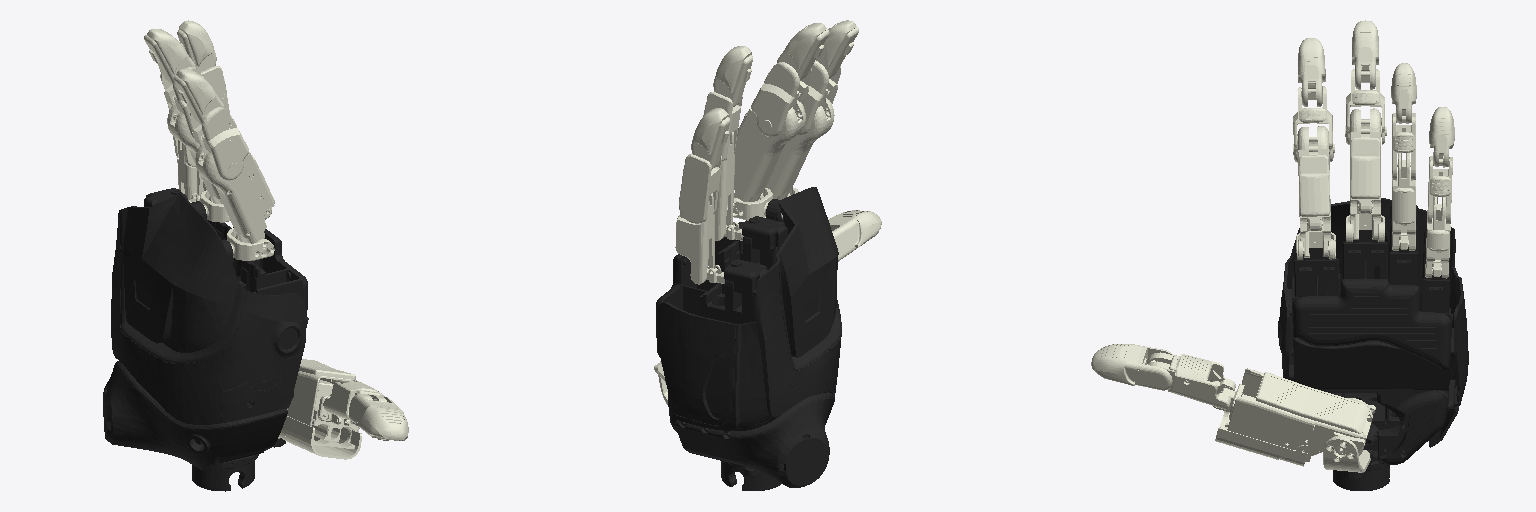
URDF robot description (liberhand_left):
<?xml version="1.0" ?>
<!-- =================================================================================== -->
<!-- |    This document was autogenerated by xacro from src/libertech_humanoid/libertech_humanoid_description/urdf/hand.xacro | -->
<!-- |    EDITING THIS FILE BY HAND IS NOT RECOMMENDED                                 | -->
<!-- =================================================================================== -->
<robot name="liberhand_left">
  <link name="world"/>
  <joint name="world_to_hand_left_palm_fixed" type="fixed">
    <origin rpy="0.0 0.0 0.0" xyz="0.0 0.0 0.0"/>
    <parent link="world"/>
    <child link="hand_left_palm"/>
  </joint>
  <link name="hand_left_palm">
    <inertial>
      <origin rpy="0 0 0" xyz="0 0 0"/>
      <mass value="0.91778"/>
      <inertia ixx="0.0018592" ixy="6.239E-05" ixz="-6.688E-05" iyy="0.0015814" iyz="3.163E-05" izz="0.00064901"/>
    </inertial>
    <visual>
      <origin rpy="0 0 0" xyz="0 0 0"/>
      <geometry>
        <mesh filename="../meshes/visual/palm.STL" scale="1 -1 1"/>
      </geometry>
      <material name="hand_gray">
        <color rgba="0.2 0.2 0.2 1"/>
      </material>
    </visual>
    <collision>
      <origin rpy="0 0 0" xyz="0 0 0"/>
      <geometry>
        <mesh filename="../meshes/visual/palm.STL" scale="1 -1 1"/>
      </geometry>
    </collision>
  </link>
  <link name="hand_left_f11">
    <inertial>
      <origin rpy="0 0 0" xyz="0 0.00069742 -0.0093798"/>
      <mass value="0.0033015"/>
      <inertia ixx="2E-07" ixy="0" ixz="0" iyy="3.1E-07" iyz="1E-08" izz="1.4E-07"/>
    </inertial>
    <visual>
      <origin rpy="0 0 0" xyz="0 0 0"/>
      <geometry>
        <mesh filename="../meshes/visual/f11.STL"/>
      </geometry>
      <material name="hand_white">
        <color rgba="0.913725 0.913725 0.847059 1"/>
      </material>
    </visual>
    <collision>
      <origin rpy="0 0 0" xyz="0 0 0"/>
      <geometry>
        <mesh filename="../meshes/visual/f11.STL"/>
      </geometry>
    </collision>
  </link>
  <joint name="hand_left_f11_joint" type="revolute">
    <origin rpy="1.5708 -0.02618 1.5708" xyz="-0.022466 -0.027654 0.043657"/>
    <parent link="hand_left_palm"/>
    <child link="hand_left_f11"/>
    <axis xyz="0 0 1"/>
    <limit effort="10" lower="-0.4" upper="0.4" velocity="3.14"/>
    <dynamics damping="1.0" friction="0.01"/>
  </joint>
  <link name="hand_left_f12">
    <inertial>
      <origin rpy="0 0 0" xyz="0.026032 -0.0074611 2.268E-05"/>
      <mass value="0.058465"/>
      <inertia ixx="4.34E-06" ixy="-4.9E-06" ixz="5.3E-07" iyy="1.396E-05" iyz="-2.1E-07" izz="1.633E-05"/>
    </inertial>
    <visual>
      <origin rpy="0 0 0" xyz="0 0 0"/>
      <geometry>
        <mesh filename="../meshes/visual/f12.STL"/>
      </geometry>
      <material name="hand_white">
        <color rgba="0.913725 0.913725 0.847059 1"/>
      </material>
    </visual>
    <collision>
      <origin rpy="0 0 0" xyz="0 0 0"/>
      <geometry>
        <mesh filename="../meshes/visual/f12.STL"/>
      </geometry>
    </collision>
  </link>
  <joint name="hand_left_f12_joint" type="revolute">
    <origin rpy="1.5708 0 1.5708" xyz="0 0 0"/>
    <parent link="hand_left_f11"/>
    <child link="hand_left_f12"/>
    <axis xyz="0 0 1"/>
    <limit effort="10" lower="0" upper="2.09" velocity="3.14"/>
    <dynamics damping="1.0" friction="0.01"/>
  </joint>
  <link name="hand_left_f13">
    <inertial>
      <origin rpy="0 0 0" xyz="0.0090975 -0.0015069 0.0013415"/>
      <mass value="0.014574"/>
      <inertia ixx="9.3E-07" ixy="-3.2E-07" ixz="-1.8E-07" iyy="2.04E-06" iyz="6E-08" izz="1.81E-06"/>
    </inertial>
    <visual>
      <origin rpy="0 0 0" xyz="0 0 0"/>
      <geometry>
        <mesh filename="../meshes/visual/f13.STL"/>
      </geometry>
      <material name="hand_white">
        <color rgba="0.913725 0.913725 0.847059 1"/>
      </material>
    </visual>
    <collision>
      <origin rpy="0 0 0" xyz="0 0 0"/>
      <geometry>
        <mesh filename="../meshes/visual/f13.STL"/>
      </geometry>
    </collision>
  </link>
  <joint name="hand_left_f13_joint" type="revolute">
    <origin rpy="0 0 0" xyz="0.048883 -0.018383 0"/>
    <parent link="hand_left_f12"/>
    <child link="hand_left_f13"/>
    <axis xyz="0 0 1"/>
    <limit effort="10" lower="0" upper="1.744" velocity="3.14"/>
    <dynamics damping="1.0" friction="0.01"/>
  </joint>
  <link name="hand_left_f14">
    <inertial>
      <origin rpy="0 0 0" xyz="0.007749 -0.0041898 -0.00072552"/>
      <mass value="0.0055228"/>
      <inertia ixx="2.3E-07" ixy="-1.5E-07" ixz="2E-08" iyy="4E-07" iyz="-1E-08" izz="5E-07"/>
    </inertial>
    <visual>
      <origin rpy="0 0 0" xyz="0 0 0"/>
      <geometry>
        <mesh filename="../meshes/visual/f14.STL"/>
      </geometry>
      <material name="hand_white">
        <color rgba="0.913725 0.913725 0.847059 1"/>
      </material>
    </visual>
    <collision>
      <origin rpy="0 0 0" xyz="0 0 0"/>
      <geometry>
        <mesh filename="../meshes/visual/f14.STL"/>
      </geometry>
    </collision>
  </link>
  <joint name="hand_left_f14_joint" type="revolute">
    <origin rpy="0 0 0" xyz="0.0284 -0.0092477 0"/>
    <parent link="hand_left_f13"/>
    <child link="hand_left_f14"/>
    <axis xyz="0 0 1"/>
    <limit effort="10" lower="0" upper="1.744" velocity="3.14"/>
    <dynamics damping="1.0" friction="0.01"/>
  </joint>
  <link name="hand_left_f14_end">
        </link>
  <joint name="hand_left_f14_end_joint" type="fixed">
    <origin rpy="0 0 0" xyz="0.019695 -0.0034802 0"/>
    <parent link="hand_left_f14"/>
    <child link="hand_left_f14_end"/>
    <axis xyz="0 0 0"/>
  </joint>
  <link name="hand_left_f21">
    <inertial>
      <origin rpy="0 0 0" xyz="0 0.00069742 -0.0093798"/>
      <mass value="0.0033015"/>
      <inertia ixx="2E-07" ixy="0" ixz="0" iyy="3.1E-07" iyz="1E-08" izz="1.4E-07"/>
    </inertial>
    <visual>
      <origin rpy="0 0 0" xyz="0 0 0"/>
      <geometry>
        <mesh filename="../meshes/visual/f21.STL"/>
      </geometry>
      <material name="hand_white">
        <color rgba="0.913725 0.913725 0.847059 1"/>
      </material>
    </visual>
    <collision>
      <origin rpy="0 0 0" xyz="0 0 0"/>
      <geometry>
        <mesh filename="../meshes/visual/f21.STL"/>
      </geometry>
    </collision>
  </link>
  <joint name="hand_left_f21_joint" type="revolute">
    <origin rpy="1.5708 0 1.5708" xyz="-0.022466 -0.0022583 0.053546"/>
    <parent link="hand_left_palm"/>
    <child link="hand_left_f21"/>
    <axis xyz="0 0 1"/>
    <limit effort="10" lower="-0.4" upper="0.4" velocity="3.14"/>
    <dynamics damping="1.0" friction="0.01"/>
  </joint>
  <link name="hand_left_f22">
    <inertial>
      <origin rpy="0 0 0" xyz="0.026032 -0.0074611 2.268E-05"/>
      <mass value="0.058465"/>
      <inertia ixx="4.34E-06" ixy="-4.9E-06" ixz="5.3E-07" iyy="1.396E-05" iyz="-2.1E-07" izz="1.633E-05"/>
    </inertial>
    <visual>
      <origin rpy="0 0 0" xyz="0 0 0"/>
      <geometry>
        <mesh filename="../meshes/visual/f22.STL"/>
      </geometry>
      <material name="hand_white">
        <color rgba="0.913725 0.913725 0.847059 1"/>
      </material>
    </visual>
    <collision>
      <origin rpy="0 0 0" xyz="0 0 0"/>
      <geometry>
        <mesh filename="../meshes/visual/f22.STL"/>
      </geometry>
    </collision>
  </link>
  <joint name="hand_left_f22_joint" type="revolute">
    <origin rpy="1.5708 0 1.5708" xyz="0 0 0"/>
    <parent link="hand_left_f21"/>
    <child link="hand_left_f22"/>
    <axis xyz="0 0 1"/>
    <limit effort="10" lower="0" upper="2.09" velocity="3.14"/>
    <dynamics damping="1.0" friction="0.01"/>
  </joint>
  <link name="hand_left_f23">
    <inertial>
      <origin rpy="0 0 0" xyz="0.0090975 -0.0015069 0.0013415"/>
      <mass value="0.014574"/>
      <inertia ixx="9.3E-07" ixy="-3.2E-07" ixz="-1.8E-07" iyy="2.04E-06" iyz="6E-08" izz="1.81E-06"/>
    </inertial>
    <visual>
      <origin rpy="0 0 0" xyz="0 0 0"/>
      <geometry>
        <mesh filename="../meshes/visual/f23.STL"/>
      </geometry>
      <material name="hand_white">
        <color rgba="0.913725 0.913725 0.847059 1"/>
      </material>
    </visual>
    <collision>
      <origin rpy="0 0 0" xyz="0 0 0"/>
      <geometry>
        <mesh filename="../meshes/visual/f23.STL"/>
      </geometry>
    </collision>
  </link>
  <joint name="hand_left_f23_joint" type="revolute">
    <origin rpy="0 0 0" xyz="0.048883 -0.018383 0"/>
    <parent link="hand_left_f22"/>
    <child link="hand_left_f23"/>
    <axis xyz="0 0 1"/>
    <limit effort="10" lower="0" upper="1.744" velocity="3.14"/>
    <dynamics damping="1.0" friction="0.01"/>
  </joint>
  <link name="hand_left_f24">
    <inertial>
      <origin rpy="0 0 0" xyz="0.007749 -0.0041898 -0.00072552"/>
      <mass value="0.0055228"/>
      <inertia ixx="2.3E-07" ixy="-1.5E-07" ixz="2E-08" iyy="4E-07" iyz="-1E-08" izz="5E-07"/>
    </inertial>
    <visual>
      <origin rpy="0 0 0" xyz="0 0 0"/>
      <geometry>
        <mesh filename="../meshes/visual/f24.STL"/>
      </geometry>
      <material name="hand_white">
        <color rgba="0.913725 0.913725 0.847059 1"/>
      </material>
    </visual>
    <collision>
      <origin rpy="0 0 0" xyz="0 0 0"/>
      <geometry>
        <mesh filename="../meshes/visual/f24.STL"/>
      </geometry>
    </collision>
  </link>
  <joint name="hand_left_f24_joint" type="revolute">
    <origin rpy="0 0 0" xyz="0.0284 -0.0092477 0"/>
    <parent link="hand_left_f23"/>
    <child link="hand_left_f24"/>
    <axis xyz="0 0 1"/>
    <limit effort="10" lower="0" upper="1.744" velocity="3.14"/>
    <dynamics damping="1.0" friction="0.01"/>
  </joint>
  <link name="hand_left_f24_end">
        </link>
  <joint name="hand_left_f24_end_joint" type="fixed">
    <origin rpy="0 0 0" xyz="0.019695 -0.0034802 0"/>
    <parent link="hand_left_f24"/>
    <child link="hand_left_f24_end"/>
    <axis xyz="0 0 0"/>
  </joint>
  <link name="hand_left_f31">
    <inertial>
      <origin rpy="0 0 0" xyz="-6.964E-05 -0.00044078 -0.012759"/>
      <mass value="0.0085521"/>
      <inertia ixx="7.6E-07" ixy="0" ixz="0" iyy="7.6E-07" iyz="4E-08" izz="1.3E-07"/>
    </inertial>
    <visual>
      <origin rpy="0 0 0" xyz="0 0 0"/>
      <geometry>
        <mesh filename="../meshes/visual/f31.STL"/>
      </geometry>
      <material name="hand_white">
        <color rgba="0.913725 0.913725 0.847059 1"/>
      </material>
    </visual>
    <collision>
      <origin rpy="0 0 0" xyz="0 0 0"/>
      <geometry>
        <mesh filename="../meshes/visual/f31.STL"/>
      </geometry>
    </collision>
  </link>
  <joint name="hand_left_f31_joint" type="revolute">
    <origin rpy="1.5708 0 1.5708" xyz="-0.021466 0.017542 0.047798"/>
    <parent link="hand_left_palm"/>
    <child link="hand_left_f31"/>
    <axis xyz="0 0 1"/>
    <limit effort="10" lower="-0.4" upper="0.4" velocity="3.14"/>
    <dynamics damping="1.0" friction="0.01"/>
  </joint>
  <link name="hand_left_f32">
    <inertial>
      <origin rpy="0 0 0" xyz="0.025132 0.0031733 -8.727E-05"/>
      <mass value="0.01244"/>
      <inertia ixx="4.5E-07" ixy="-1.2E-07" ixz="0" iyy="2.29E-06" iyz="0" izz="2.41E-06"/>
    </inertial>
    <visual>
      <origin rpy="0 0 0" xyz="0 0 0"/>
      <geometry>
        <mesh filename="../meshes/visual/f32.STL"/>
      </geometry>
      <material name="hand_white">
        <color rgba="0.913725 0.913725 0.847059 1"/>
      </material>
    </visual>
    <collision>
      <origin rpy="0 0 0" xyz="0 0 0"/>
      <geometry>
        <mesh filename="../meshes/visual/f32.STL"/>
      </geometry>
    </collision>
  </link>
  <joint name="hand_left_f32_joint" type="revolute">
    <origin rpy="1.5708 0 1.5708" xyz="0 0 0"/>
    <parent link="hand_left_f31"/>
    <child link="hand_left_f32"/>
    <axis xyz="0 0 1"/>
    <limit effort="10" lower="0" upper="1.744" velocity="3.14"/>
    <dynamics damping="1.0" friction="0.01"/>
  </joint>
  <link name="hand_left_f33">
    <inertial>
      <origin rpy="0 0 0" xyz="0.010032 -0.00058707 -9.093E-05"/>
      <mass value="0.0071009"/>
      <inertia ixx="2.8E-07" ixy="-8E-08" ixz="0" iyy="6.9E-07" iyz="0" izz="7E-07"/>
    </inertial>
    <visual>
      <origin rpy="0 0 0" xyz="0 0 0"/>
      <geometry>
        <mesh filename="../meshes/visual/f33.STL"/>
      </geometry>
      <material name="hand_white">
        <color rgba="0.913725 0.913725 0.847059 1"/>
      </material>
    </visual>
    <collision>
      <origin rpy="0 0 0" xyz="0 0 0"/>
      <geometry>
        <mesh filename="../meshes/visual/f33.STL"/>
      </geometry>
    </collision>
  </link>
  <joint name="hand_left_f33_joint" type="revolute">
    <origin rpy="0 0 0" xyz="0.044995 0.00066781 0"/>
    <parent link="hand_left_f32"/>
    <child link="hand_left_f33"/>
    <axis xyz="0 0 1"/>
    <limit effort="10" lower="0" upper="1.744" velocity="3.14"/>
    <dynamics damping="1.0" friction="0.01"/>
  </joint>
  <link name="hand_left_f34">
    <inertial>
      <origin rpy="0 0 0" xyz="0.010482 -0.0030354 -1.03E-05"/>
      <mass value="0.0049513"/>
      <inertia ixx="1.3E-07" ixy="-6E-08" ixz="0" iyy="3.2E-07" iyz="0" izz="3.7E-07"/>
    </inertial>
    <visual>
      <origin rpy="0 0 0" xyz="0 0 0"/>
      <geometry>
        <mesh filename="../meshes/visual/f34.STL"/>
      </geometry>
      <material name="hand_white">
        <color rgba="0.913725 0.913725 0.847059 1"/>
      </material>
    </visual>
    <collision>
      <origin rpy="0 0 0" xyz="0 0 0"/>
      <geometry>
        <mesh filename="../meshes/visual/f34.STL"/>
      </geometry>
    </collision>
  </link>
  <joint name="hand_left_f34_joint" type="revolute">
    <origin rpy="0 0 0" xyz="0.024601 -0.0044465 0"/>
    <parent link="hand_left_f33"/>
    <child link="hand_left_f34"/>
    <axis xyz="0 0 1"/>
    <limit effort="10" lower="0" upper="1.744" velocity="3.14"/>
    <dynamics damping="1.0" friction="0.01"/>
  </joint>
  <link name="hand_left_f34_end">
        </link>
  <joint name="hand_left_f34_end_joint" type="fixed">
    <origin rpy="0 0 0" xyz="0.021134 0.0011803 0"/>
    <parent link="hand_left_f34"/>
    <child link="hand_left_f34_end"/>
    <axis xyz="0 0 0"/>
  </joint>
  <link name="hand_left_f41">
    <inertial>
      <origin rpy="0 0 0" xyz="-6.964E-05 -0.00044078 -0.012759"/>
      <mass value="0.0085521"/>
      <inertia ixx="7.6E-07" ixy="0" ixz="0" iyy="7.6E-07" iyz="4E-08" izz="1.3E-07"/>
    </inertial>
    <visual>
      <origin rpy="0 0 0" xyz="0 0 0"/>
      <geometry>
        <mesh filename="../meshes/visual/f41.STL"/>
      </geometry>
      <material name="hand_white">
        <color rgba="0.913725 0.913725 0.847059 1"/>
      </material>
    </visual>
    <collision>
      <origin rpy="0 0 0" xyz="0 0 0"/>
      <geometry>
        <mesh filename="../meshes/visual/f41.STL"/>
      </geometry>
    </collision>
  </link>
  <joint name="hand_left_f41_joint" type="revolute">
    <origin rpy="1.5708 0.034907 1.5708" xyz="-0.021466 0.034458 0.032384"/>
    <parent link="hand_left_palm"/>
    <child link="hand_left_f41"/>
    <axis xyz="0 0 1"/>
    <limit effort="10" lower="-0.4" upper="0.4" velocity="3.14"/>
    <dynamics damping="1.0" friction="0.01"/>
  </joint>
  <link name="hand_left_f42">
    <inertial>
      <origin rpy="0 0 0" xyz="0.021044 0.0035949 -7.944E-05"/>
      <mass value="0.0096409"/>
      <inertia ixx="3.5E-07" ixy="-3E-08" ixz="0" iyy="1.24E-06" iyz="0" izz="1.35E-06"/>
    </inertial>
    <visual>
      <origin rpy="0 0 0" xyz="0 0 0"/>
      <geometry>
        <mesh filename="../meshes/visual/f42.STL"/>
      </geometry>
      <material name="hand_white">
        <color rgba="0.913725 0.913725 0.847059 1"/>
      </material>
    </visual>
    <collision>
      <origin rpy="0 0 0" xyz="0 0 0"/>
      <geometry>
        <mesh filename="../meshes/visual/f42.STL"/>
      </geometry>
    </collision>
  </link>
  <joint name="hand_left_f42_joint" type="revolute">
    <origin rpy="1.5708 0 1.5708" xyz="0 0 0"/>
    <parent link="hand_left_f41"/>
    <child link="hand_left_f42"/>
    <axis xyz="0 0 1"/>
    <limit effort="10" lower="0" upper="1.6" velocity="3.14"/>
    <dynamics damping="1.0" friction="0.01"/>
  </joint>
  <link name="hand_left_f43">
    <inertial>
      <origin rpy="0 0 0" xyz="0.010032 -0.00058707 -9.093E-05"/>
      <mass value="0.0071009"/>
      <inertia ixx="2.8E-07" ixy="-8E-08" ixz="0" iyy="6.9E-07" iyz="0" izz="7E-07"/>
    </inertial>
    <visual>
      <origin rpy="0 0 0" xyz="0 0 0"/>
      <geometry>
        <mesh filename="../meshes/visual/f43.STL"/>
      </geometry>
      <material name="hand_white">
        <color rgba="0.913725 0.913725 0.847059 1"/>
      </material>
    </visual>
    <collision>
      <origin rpy="0 0 0" xyz="0 0 0"/>
      <geometry>
        <mesh filename="../meshes/visual/f43.STL"/>
      </geometry>
    </collision>
  </link>
  <joint name="hand_left_f43_joint" type="revolute">
    <origin rpy="0 0 0" xyz="0.035975 0.001338 0"/>
    <parent link="hand_left_f42"/>
    <child link="hand_left_f43"/>
    <axis xyz="0 0 1"/>
    <limit effort="10" lower="0" upper="1.744" velocity="3.14"/>
    <dynamics damping="1.0" friction="0.01"/>
  </joint>
  <link name="hand_left_f44">
    <inertial>
      <origin rpy="0 0 0" xyz="0.010482 -0.0030354 -1.03E-05"/>
      <mass value="0.0049513"/>
      <inertia ixx="1.3E-07" ixy="-6E-08" ixz="0" iyy="3.2E-07" iyz="0" izz="3.7E-07"/>
    </inertial>
    <visual>
      <origin rpy="0 0 0" xyz="0 0 0"/>
      <geometry>
        <mesh filename="../meshes/visual/f44.STL"/>
      </geometry>
      <material name="hand_white">
        <color rgba="0.913725 0.913725 0.847059 1"/>
      </material>
    </visual>
    <collision>
      <origin rpy="0 0 0" xyz="0 0 0"/>
      <geometry>
        <mesh filename="../meshes/visual/f44.STL"/>
      </geometry>
    </collision>
  </link>
  <joint name="hand_left_f44_joint" type="revolute">
    <origin rpy="0 0 0" xyz="0.024621 -0.004339 0"/>
    <parent link="hand_left_f43"/>
    <child link="hand_left_f44"/>
    <axis xyz="0 0 1"/>
    <limit effort="10" lower="0" upper="1.744" velocity="3.14"/>
    <dynamics damping="1.0" friction="0.01"/>
  </joint>
  <link name="hand_left_f44_end">
        </link>
  <joint name="hand_left_f44_end_joint" type="fixed">
    <origin rpy="0 0 0" xyz="0.021123 0.0013734 0"/>
    <parent link="hand_left_f44"/>
    <child link="hand_left_f44_end"/>
    <axis xyz="0 0 0"/>
  </joint>
  <link name="hand_left_f51">
    <inertial>
      <origin rpy="0 0 0" xyz="0.0053991 0.0016936 0.01157"/>
      <mass value="0.022542"/>
      <inertia ixx="3.06E-06" ixy="4.2E-07" ixz="3.3E-07" iyy="5.17E-06" iyz="1E-08" izz="3.39E-06"/>
    </inertial>
    <visual>
      <origin rpy="0 0 0" xyz="0 0 0"/>
      <geometry>
        <mesh filename="../meshes/visual/f51.STL" scale="-1 1 1"/>
      </geometry>
      <material name="hand_white">
        <color rgba="0.913725 0.913725 0.847059 1"/>
      </material>
    </visual>
    <collision>
      <origin rpy="0 0 0" xyz="0 0 0"/>
      <geometry>
        <mesh filename="../meshes/visual/f51.STL" scale="-1 1 1"/>
      </geometry>
    </collision>
  </link>
  <joint name="hand_left_f51_joint" type="revolute">
    <origin rpy="0 0 3.14" xyz="-0.00049657 -0.0084524 -0.066754"/>
    <parent link="hand_left_palm"/>
    <child link="hand_left_f51"/>
    <axis xyz="0 0 1"/>
    <limit effort="10" lower="0" upper="1.9" velocity="3.14"/>
    <dynamics damping="1.0" friction="0.01"/>
  </joint>
  <link name="hand_left_f52">
    <inertial>
      <origin rpy="0 0 0" xyz="0.03317 -0.0064258 -0.00083733"/>
      <mass value="0.12909"/>
      <inertia ixx="1.628E-05" ixy="-6.22E-06" ixz="-3.01E-06" iyy="6.413E-05" iyz="1.13E-06" izz="6.867E-05"/>
    </inertial>
    <visual>
      <origin rpy="0 0 0" xyz="0 0 0"/>
      <geometry>
        <mesh filename="../meshes/visual/f52.STL" scale="1 1 -1"/>
      </geometry>
      <material name="hand_white">
        <color rgba="0.913725 0.913725 0.847059 1"/>
      </material>
    </visual>
    <collision>
      <origin rpy="0 0 0" xyz="0 0 0"/>
      <geometry>
        <mesh filename="../meshes/visual/f52.STL" scale="1 1 -1"/>
      </geometry>
    </collision>
  </link>
  <joint name="hand_left_f52_joint" type="revolute">
    <origin rpy="1.2969 -0.25085 1.4244" xyz="-0.0092399 0.0031582 0.022073"/>
    <parent link="hand_left_f51"/>
    <child link="hand_left_f52"/>
    <axis xyz="0 0 1"/>
    <limit effort="10" lower="0" upper="1.332" velocity="3.14"/>
    <dynamics damping="1.0" friction="0.01"/>
  </joint>
  <link name="hand_left_f53">
    <inertial>
      <origin rpy="0 0 0" xyz="0.021453 0.0041043 -5.93E-06"/>
      <mass value="0.011849"/>
      <inertia ixx="6.6E-07" ixy="-1E-08" ixz="-1E-08" iyy="1.94E-06" iyz="0" izz="1.88E-06"/>
    </inertial>
    <visual>
      <origin rpy="0 0 0" xyz="0 0 0"/>
      <geometry>
        <mesh filename="../meshes/visual/f53.STL"/>
      </geometry>
      <material name="hand_white">
        <color rgba="0.913725 0.913725 0.847059 1"/>
      </material>
    </visual>
    <collision>
      <origin rpy="0 0 0" xyz="0 0 0"/>
      <geometry>
        <mesh filename="../meshes/visual/f53.STL"/>
      </geometry>
    </collision>
  </link>
  <joint name="hand_left_f53_joint" type="revolute">
    <origin rpy="0 0 0" xyz="0.0654 0 0"/>
    <parent link="hand_left_f52"/>
    <child link="hand_left_f53"/>
    <axis xyz="0 0 1"/>
    <limit effort="10" lower="0" upper="1.744" velocity="3.14"/>
    <dynamics damping="1.0" friction="0.01"/>
  </joint>
  <link name="hand_left_f54">
    <inertial>
      <origin rpy="0 0 0" xyz="0.013824 -0.0017677 -5.567E-05"/>
      <mass value="0.010348"/>
      <inertia ixx="5.5E-07" ixy="-1.5E-07" ixz="0" iyy="1.35E-06" iyz="0" izz="1.17E-06"/>
    </inertial>
    <visual>
      <origin rpy="0 0 0" xyz="0 0 0"/>
      <geometry>
        <mesh filename="../meshes/visual/f54.STL"/>
      </geometry>
      <material name="hand_white">
        <color rgba="0.913725 0.913725 0.847059 1"/>
      </material>
    </visual>
    <collision>
      <origin rpy="0 0 0" xyz="0 0 0"/>
      <geometry>
        <mesh filename="../meshes/visual/f54.STL"/>
      </geometry>
    </collision>
  </link>
  <joint name="hand_left_f54_joint" type="revolute">
    <origin rpy="0 0 0" xyz="0.035837 0.0034221 0"/>
    <parent link="hand_left_f53"/>
    <child link="hand_left_f54"/>
    <axis xyz="0 0 1"/>
    <limit effort="10" lower="0" upper="1.744" velocity="3.14"/>
    <dynamics damping="1.0" friction="0.01"/>
  </joint>
  <link name="hand_left_f54_end">
        </link>
  <joint name="hand_left_f54_end_joint" type="fixed">
    <origin rpy="0 0 0" xyz="0.024 0.0044004 0"/>
    <parent link="hand_left_f54"/>
    <child link="hand_left_f54_end"/>
    <axis xyz="0 0 0"/>
  </joint>
  <link name="hand_left_wrist">
        </link>
  <joint name="hand_left_wrist_joint" type="fixed">
    <origin rpy="1.570796326 0.0 1.570796326" xyz="-0.025962 -0.005739 -0.069754"/>
    <parent link="hand_left_palm"/>
    <child link="hand_left_wrist"/>
  </joint>
</robot>

--- What the picture shows (computed from the rendered views, not written in the file) ---
Views: 3 orthographic renders of the robot side by side, from view 1: azimuth 30°, elevation 25°; view 2: azimuth 150°, elevation 25°; view 3: azimuth 270°, elevation 25°.
Robot: liberhand_left — 28 links, 27 joints (20 revolute, 7 fixed); root link world; default pose: all joints at 0.
Links seen in each view (by area): view 1: hand_left_palm, hand_left_f52, hand_left_f12, hand_left_f13, hand_left_f54, hand_left_f14, hand_left_f24, hand_left_f34, hand_left_f53, hand_left_f22, hand_left_f11, hand_left_f42 (+2 smaller); view 2: hand_left_palm, hand_left_f22, hand_left_f23, hand_left_f12, hand_left_f43, hand_left_f42, hand_left_f54, hand_left_f34, hand_left_f24, hand_left_f44, hand_left_f32, hand_left_f14 (+3 smaller); view 3: hand_left_palm, hand_left_f52, hand_left_f12, hand_left_f22, hand_left_f53, hand_left_f54, hand_left_f32, hand_left_f14, hand_left_f24, hand_left_f51, hand_left_f42, hand_left_f13 (+6 smaller).
Boxes of the visible links, bbox=[...] form: hand_left_palm: bbox=[103, 188, 308, 491]; hand_left_f52: bbox=[279, 359, 363, 459]; hand_left_f12: bbox=[195, 144, 274, 254]; hand_left_f13: bbox=[190, 107, 248, 180]; hand_left_f54: bbox=[349, 394, 408, 440]; hand_left_f14: bbox=[173, 69, 224, 124]; hand_left_f24: bbox=[144, 29, 195, 84]; hand_left_f34: bbox=[177, 20, 216, 71]; hand_left_f53: bbox=[323, 382, 386, 420]; hand_left_f22: bbox=[167, 104, 222, 203]; hand_left_f11: bbox=[227, 228, 274, 260]; hand_left_f42: bbox=[177, 140, 196, 200]; hand_left_palm: bbox=[656, 187, 841, 490]; hand_left_f22: bbox=[733, 100, 805, 213]; hand_left_f23: bbox=[751, 62, 811, 136]; hand_left_f12: bbox=[765, 98, 834, 199]; hand_left_f43: bbox=[679, 154, 721, 223]; hand_left_f42: bbox=[675, 193, 714, 284]; hand_left_f54: bbox=[829, 210, 881, 261]; hand_left_f34: bbox=[713, 46, 752, 106]; hand_left_f24: bbox=[777, 23, 829, 80]; hand_left_f44: bbox=[691, 108, 729, 168]; hand_left_f32: bbox=[714, 132, 734, 240]; hand_left_f14: bbox=[816, 20, 858, 78]; hand_left_palm: bbox=[1278, 198, 1468, 490]; hand_left_f52: bbox=[1213, 368, 1372, 466]; hand_left_f12: bbox=[1298, 126, 1330, 257]; hand_left_f22: bbox=[1350, 108, 1381, 239]; hand_left_f53: bbox=[1147, 352, 1235, 409]; hand_left_f54: bbox=[1091, 344, 1172, 390]; hand_left_f32: bbox=[1392, 153, 1415, 250]; hand_left_f14: bbox=[1298, 38, 1325, 106]; hand_left_f24: bbox=[1352, 20, 1378, 89]; hand_left_f51: bbox=[1323, 398, 1375, 472]; hand_left_f42: bbox=[1425, 197, 1450, 278]; hand_left_f13: bbox=[1293, 86, 1334, 162].
Size in the robot's own frame: 0.1058 by 0.194 by 0.2431 metres.
Meshes: 21 distinct files referenced, 21 mesh visuals loaded (21 binary STL).
